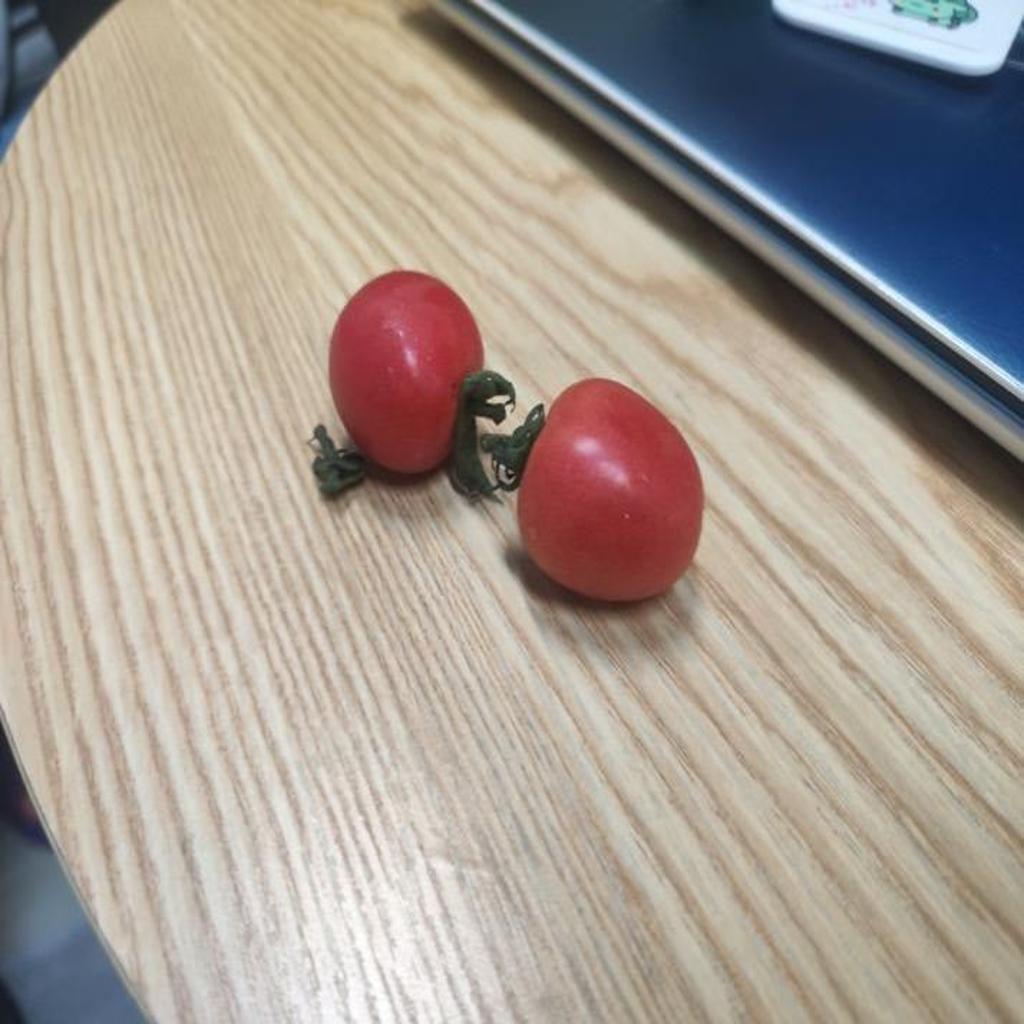tomato: (515, 379, 714, 602), (325, 276, 497, 479)
